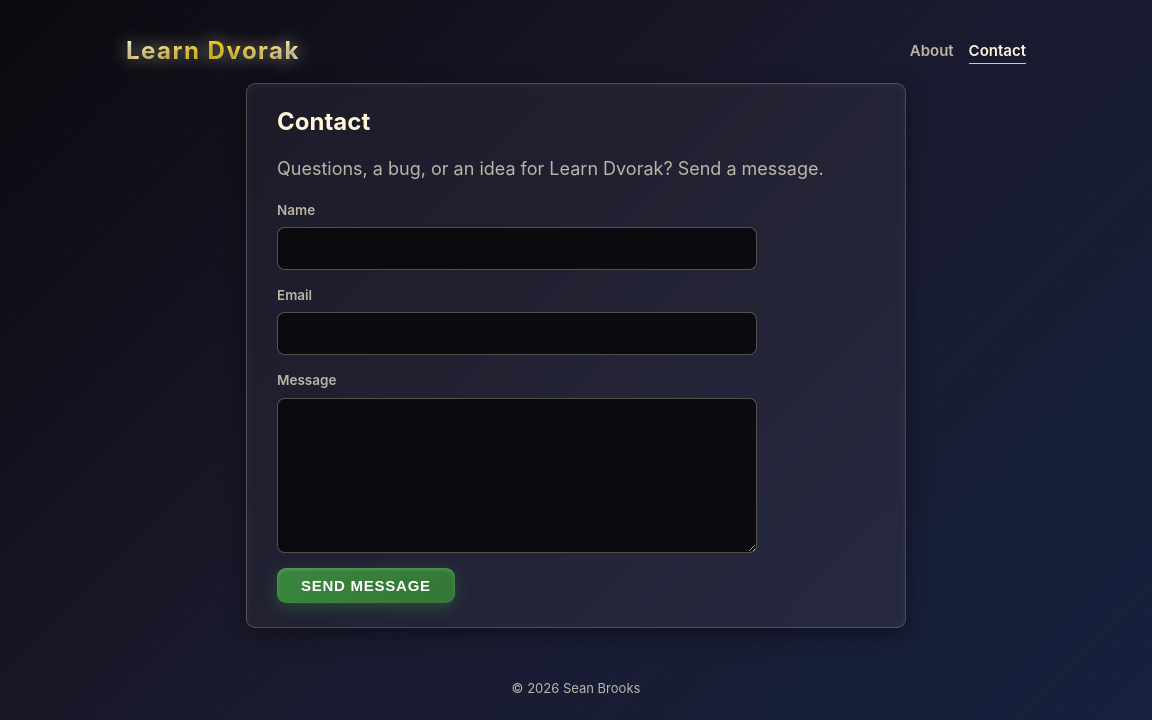
Test: the Contact form › sends the message as JSON, then thanks the sender and clears the form
This screenshot has width=1152, height=720.
Type "Ada" into the field labelled "Name" at (517, 249), box [277, 227, 757, 270]
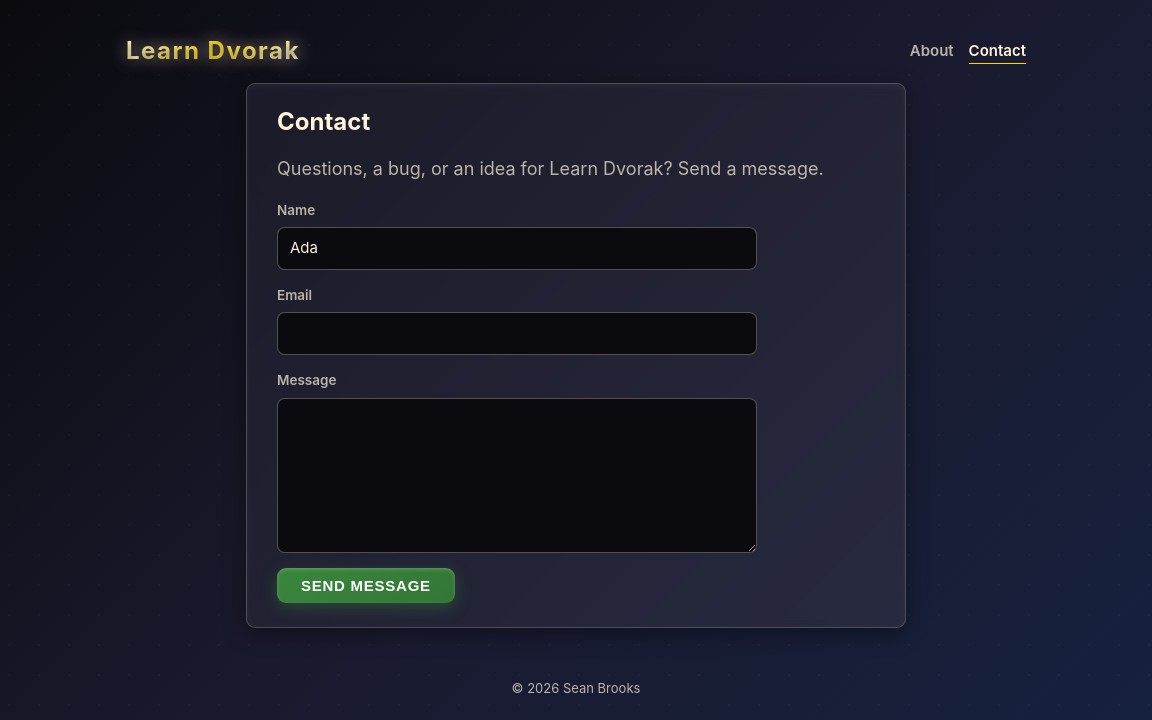
Type "ada@example.com" into the field labelled "Email" at (517, 334), box [277, 312, 757, 355]
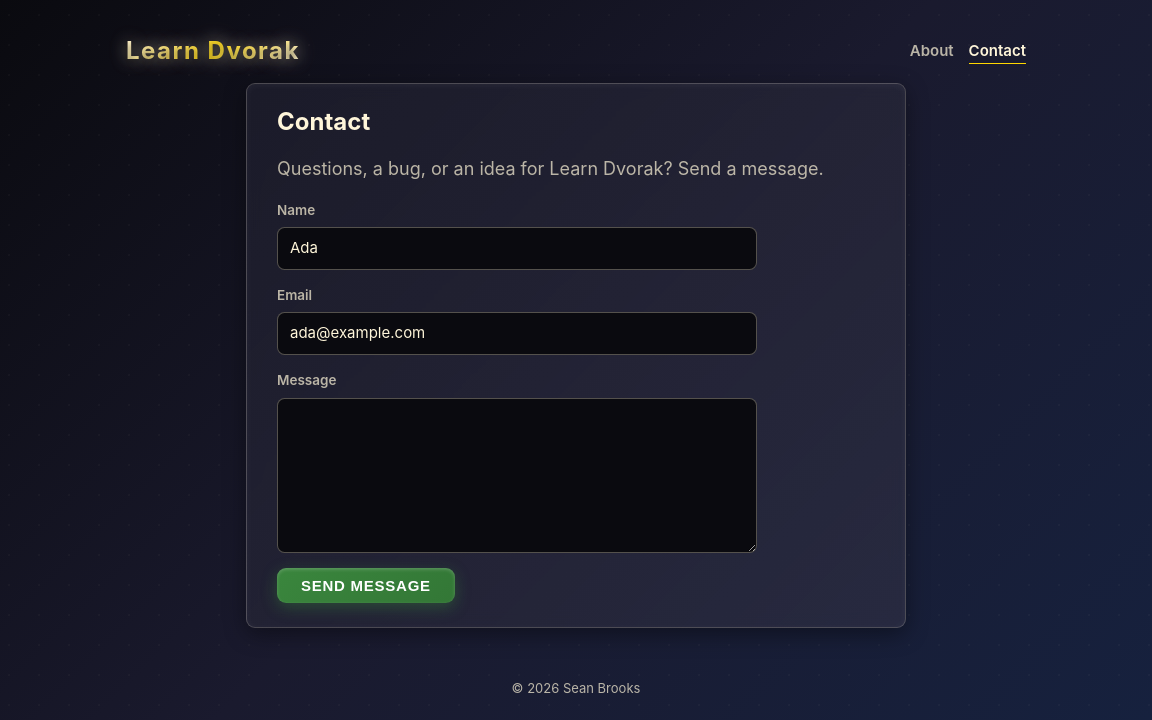
Type "Hello" into the text box labelled "Message" at (517, 475), box [277, 398, 757, 553]
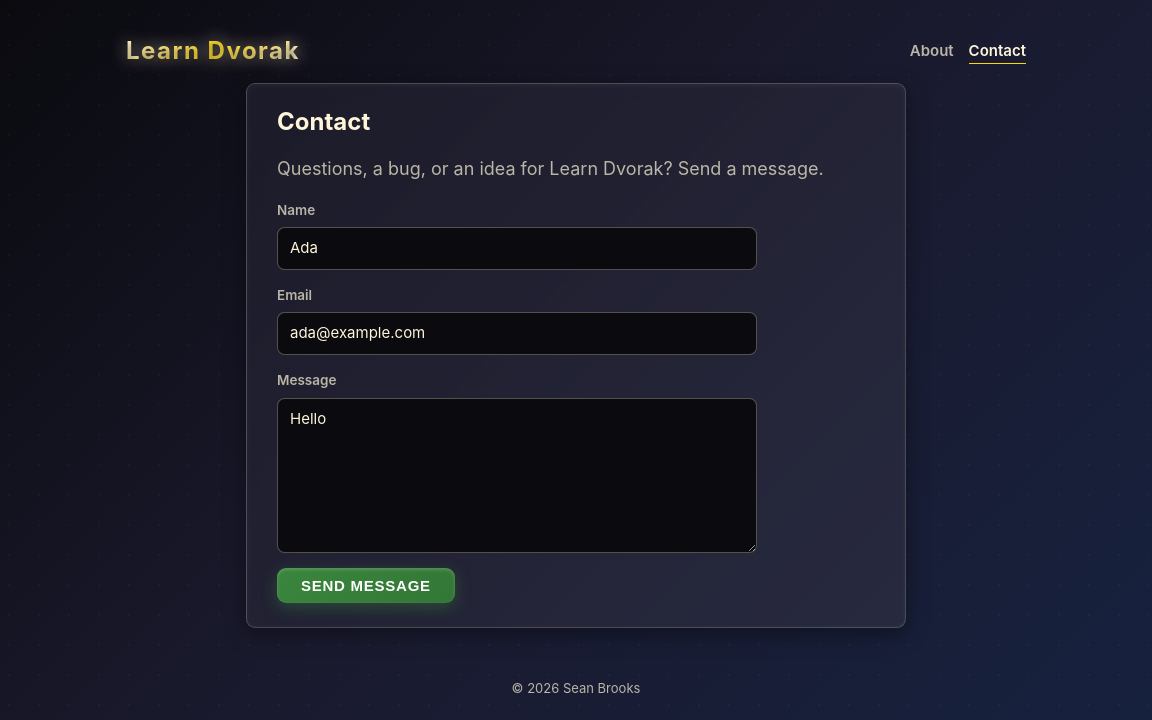
Submit the form from the button "Send message", box [277, 568, 455, 603]
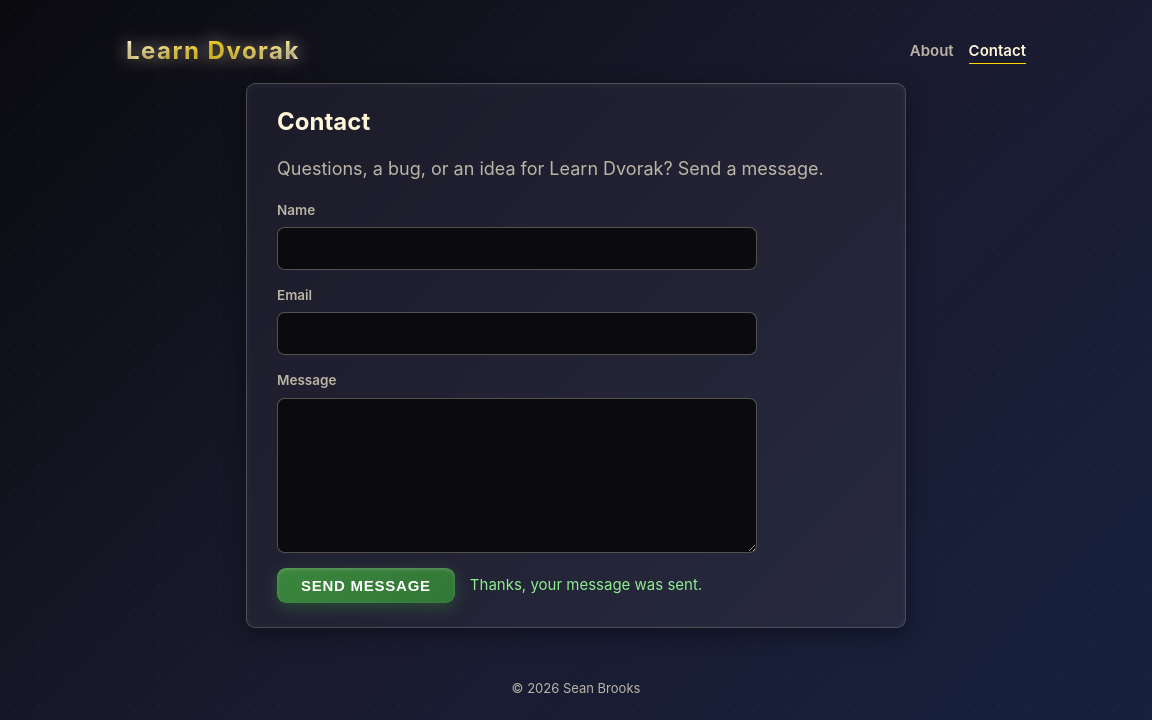
expect the message reads "Thanks, your message was sent.": met, box [470, 575, 702, 594]
expect the text box labelled "Message" is empty: met, box [277, 398, 757, 553]
